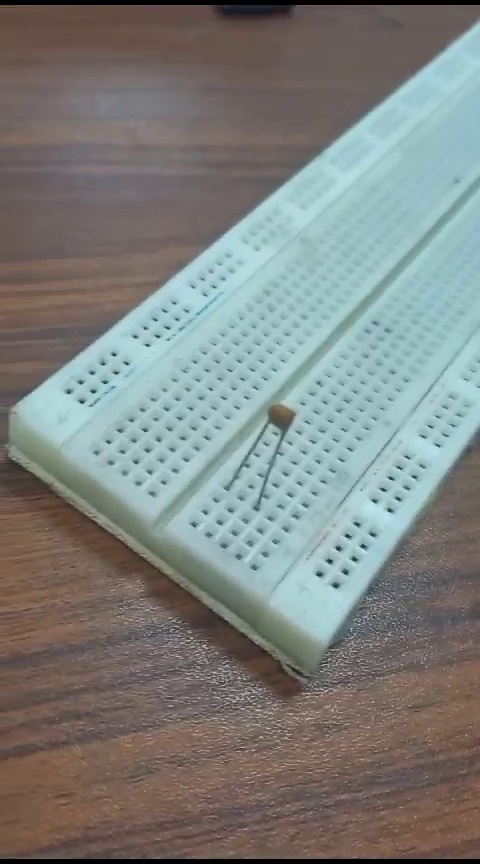ceramic capacitor: (242, 404, 307, 477)
